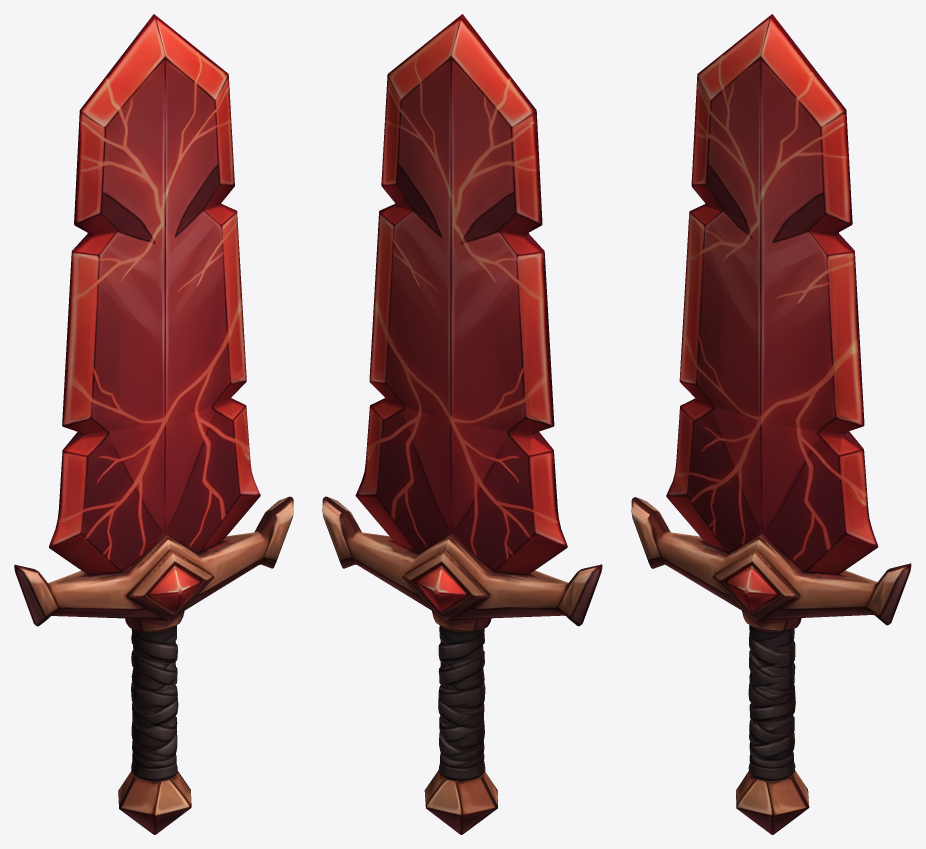
The model's file is greatsword.glb.
3 renders of one model, left to right at view 1: azimuth 30°, elevation 25°; view 2: azimuth 150°, elevation 25°; view 3: azimuth 330°, elevation 25°, orthographic.
Parts seen in each view (by area): view 1: tripo_node_cab38c3f-d3ce-42e8-b0fe-5af45652eb9d; view 2: tripo_node_cab38c3f-d3ce-42e8-b0fe-5af45652eb9d; view 3: tripo_node_cab38c3f-d3ce-42e8-b0fe-5af45652eb9d.
Part boxes in pixels (left/top/right/bottom): tripo_node_cab38c3f-d3ce-42e8-b0fe-5af45652eb9d: left=14, top=14, right=293, bottom=834; tripo_node_cab38c3f-d3ce-42e8-b0fe-5af45652eb9d: left=322, top=14, right=602, bottom=834; tripo_node_cab38c3f-d3ce-42e8-b0fe-5af45652eb9d: left=631, top=14, right=911, bottom=834.
Size of the model in its own units: 0.353 by 0.9995 by 0.1167.
Materials: 1 (1 with a texture image).
